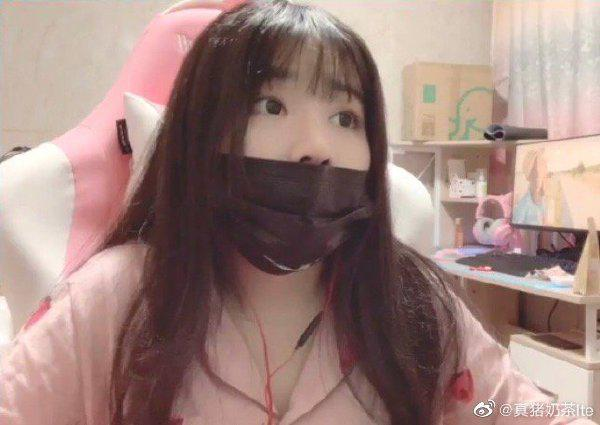WRONG: (220, 67, 372, 267)
